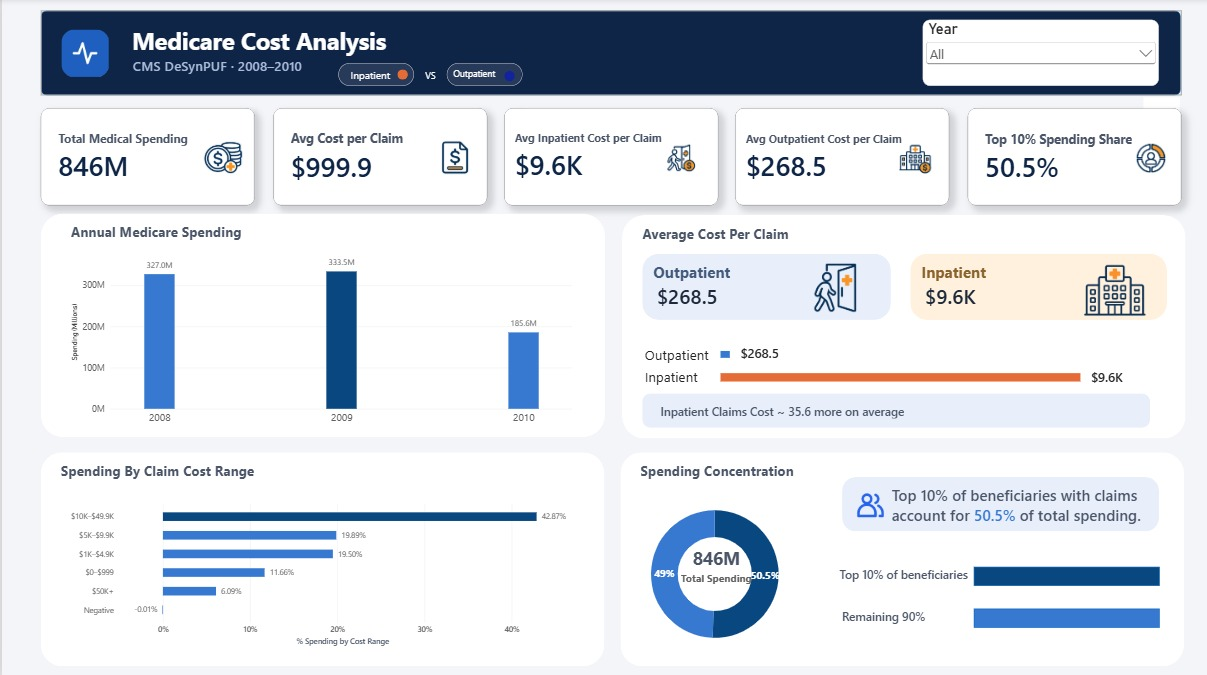

What the dashboard file says about the page in this screenshot:
{"tool":"powerbi","page":{"name":"Medicare Cost Analysis","canvas":[1920,1080],"ordinal":1},"visuals":[{"type":"shape","title":"Inpatient        ","box":[535,102.1,120,36],"z":0,"group":"g1"},{"type":"shape","box":[1441.1,406.1,407.5,105],"z":0,"group":"g4"},{"type":"shape","box":[62.5,720,895,340],"z":0},{"type":"shape","box":[62.5,20,1810,135],"z":1000},{"type":"shape","box":[629.6,112.2,17.1,16.6],"z":1000,"group":"g1"},{"type":"shape","box":[984.3,345.7,895,355],"z":1000,"group":"g3"},{"type":"shape","box":[1016.1,406.1,395,105],"z":1000,"group":"g4"},{"type":"textbox","box":[113,43,926.9,82.3],"z":2000},{"type":"textbox","box":[543.1,109,86.7,35.6],"z":2000,"group":"g1"},{"type":"cardVisual","fields":{"Data":["Cleaned_claims_file.Avg Cost per Claim"]},"box":[1023.6,435.8,190,75.3],"z":2000,"group":"g4"},{"type":"image","box":[94,50,77.3,77.3],"z":3000},{"type":"shape","title":"Inpatient        ","box":[708.1,102.3,120,36],"z":3000,"group":"g1"},{"type":"cardVisual","fields":{"Data":["Cleaned_claims_file.Avg Cost per Claim"]},"box":[1448.6,435.8,190,75.3],"z":3000,"group":"g4"},{"type":"shape","box":[797.3,114,17.1,16.6],"z":4000,"group":"g1"},{"type":"cardVisual","title":"tgg","fields":{"Data":["Cleaned_claims_file.Total Medicare Reimbursement"]},"box":[62.5,175,340,155],"z":4000},{"type":"textbox","box":[708.1,109,86.7,35.6],"z":5000,"group":"g1"},{"type":"cardVisual","title":"tgg","fields":{"Data":["Cleaned_claims_file.Avg Cost per Claim"]},"box":[1165,175,340,155],"z":5000},{"type":"textbox","box":[665.6,112.7,31.2,26.2],"z":6000,"group":"g1"},{"type":"cardVisual","title":"tgg","fields":{"Data":["Cleaned_claims_file.Avg Cost per Claim"]},"box":[430,175,340,155],"z":6000},{"type":"cardVisual","title":"tgg","fields":{"Data":["Cleaned_claims_file.Avg Cost per Claim"]},"box":[797.5,175,340,155],"z":7000},{"type":"cardVisual","fields":{"Data":["Cleaned_claims_file.Avg Cost per Claim"]},"box":[1713.5,556.5,96.5,90.9],"z":7000,"group":"g3"},{"type":"barChart","title":"tgg","fields":{"Category":["Cleaned_claims_file.Claim Cost Range"],"Y":["Cleaned_claims_file.% Spending by Cost Range"]},"box":[85,782.5,837.5,262.5],"z":8000},{"type":"group","id":"g1","title":"Group 1","box":[535,102.1,294.3,42.9],"z":9000},{"type":"slicer","fields":{"Values":["Cleaned_claims_file.Claim Year"]},"box":[1462.5,35,375,105],"z":10000},{"type":"shape","box":[62.5,342.5,896,355.3],"z":10000,"group":"g2"},{"type":"clusteredBarChart","fields":{"Category":["Cleaned_claims_file.Claim_Type"],"Y":["Cleaned_claims_file.Avg Cost per Claim"]},"box":[1123.5,513.2,582.5,103.8],"z":10000,"group":"g3"},{"type":"shape","box":[982.5,720,895,340],"z":11000},{"type":"group","id":"g2","title":"Group 3","box":[62.5,342.5,895,357.5],"z":12000},{"type":"cardVisual","title":"tgg","fields":{"Data":["Cleaned_claims_file.Top 10% Spending Share"]},"box":[1532.5,175,340,155],"z":13000},{"type":"group","id":"g3","title":"Group 4","box":[984.3,345.7,894.3,354.3],"z":14000},{"type":"columnChart","title":"Annual Medicare Spending","fields":{"Category":["Cleaned_claims_file.Claim Year"],"Y":["Cleaned_claims_file.Total Medicare Reimbursement"]},"box":[95.5,343,827.5,357.5],"z":15000,"group":"g2"},{"type":"barChart","fields":{"Category":["Cleaned_claims_file.Claim_Type"],"Y":["Cleaned_claims_file.Avg Cost per Claim"]},"box":[1123.5,543.2,630,118],"z":15000,"group":"g3"},{"type":"donutChart","fields":{"Y":["Cleaned_claims_file.Top 10% Spending Share","Cleaned_claims_file.Remaining 90% Spending"]},"box":[925,760,412.5,310],"z":15000},{"type":"group","id":"g4","title":"Group 2","box":[1016.1,406.1,832.5,106.6],"z":16000,"group":"g3"},{"type":"shape","box":[1335,760,503.3,86.7],"z":16000},{"type":"textbox","box":[1411.7,771.7,410,75],"z":17000},{"type":"textbox","box":[985.1,586.5,145,30],"z":18000,"group":"g3"},{"type":"image","box":[1343.3,771.7,68.3,63.3],"z":18000},{"type":"textbox","box":[1014.3,553.2,115,33.8],"z":19000,"group":"g3"},{"type":"cardVisual","fields":{"Data":["Cleaned_claims_file.Total Medicare Reimbursement"]},"box":[1060,835,147.5,135],"z":19000},{"type":"cardVisual","fields":{"Data":["Cleaned_claims_file.Avg Cost per Claim"]},"box":[1155.5,520.7,96.5,90.9],"z":20000,"group":"g3"},{"type":"shape","box":[1542.5,902.5,295,30],"z":20000},{"type":"image","box":[1707.1,407.7,118,105],"z":20004,"group":"g4"},{"type":"shape","box":[1542.5,970,295,30],"z":21000},{"type":"shape","box":[1015.1,629.9,806.7,55],"z":22000,"group":"g3"},{"type":"textbox","box":[1322.5,902.5,220,30],"z":22000},{"type":"image","box":[1263.2,407.5,117.5,105],"z":23000,"group":"g3"},{"type":"textbox","box":[1335,970,207.5,30],"z":23000},{"type":"image","box":[1790,223.3,70,60],"z":24000},{"type":"image","box":[1414.3,222.9,70,60],"z":24001},{"type":"image","box":[1040,222.9,70,60],"z":24002}]}

Visuals, with their boxes in screenshot pixels (x1, y1, x2, y2), scaled from the page's 1920x1080 canvas onto the 1207x675 screenshot:
"Inpatient        " shape: <region>336, 64, 412, 86</region>
shape: <region>906, 254, 1162, 319</region>
shape: <region>39, 450, 602, 662</region>
shape: <region>39, 12, 1177, 97</region>
shape: <region>396, 70, 407, 80</region>
shape: <region>619, 216, 1181, 438</region>
shape: <region>639, 254, 887, 319</region>
textbox: <region>71, 27, 654, 78</region>
textbox: <region>341, 68, 396, 90</region>
cardVisual - Cleaned_claims_file.Avg Cost per Claim: <region>643, 272, 763, 319</region>
image: <region>59, 31, 108, 80</region>
"Inpatient        " shape: <region>445, 64, 521, 86</region>
cardVisual - Cleaned_claims_file.Avg Cost per Claim: <region>911, 272, 1030, 319</region>
shape: <region>501, 71, 512, 82</region>
"tgg" cardVisual: <region>39, 109, 253, 206</region>
textbox: <region>445, 68, 500, 90</region>
"tgg" cardVisual: <region>732, 109, 946, 206</region>
textbox: <region>418, 70, 438, 87</region>
"tgg" cardVisual: <region>270, 109, 484, 206</region>
"tgg" cardVisual: <region>501, 109, 715, 206</region>
cardVisual - Cleaned_claims_file.Avg Cost per Claim: <region>1077, 348, 1138, 405</region>
"tgg" barChart: <region>53, 489, 580, 653</region>
"Group 1" group: <region>336, 64, 521, 91</region>
slicer - Cleaned_claims_file.Claim Year: <region>919, 22, 1155, 88</region>
shape: <region>39, 214, 603, 436</region>
clusteredBarChart - Cleaned_claims_file.Claim_Type x Cleaned_claims_file.Avg Cost per Claim: <region>706, 321, 1072, 386</region>
shape: <region>618, 450, 1180, 662</region>
"Group 3" group: <region>39, 214, 602, 438</region>
"tgg" cardVisual: <region>963, 109, 1177, 206</region>
"Group 4" group: <region>619, 216, 1181, 438</region>
"Annual Medicare Spending" columnChart: <region>60, 214, 580, 438</region>
barChart - Cleaned_claims_file.Claim_Type x Cleaned_claims_file.Avg Cost per Claim: <region>706, 340, 1102, 413</region>
donutChart - Cleaned_claims_file.Top 10% Spending Share x Cleaned_claims_file.Remaining 90% Spending: <region>581, 475, 841, 669</region>
"Group 2" group: <region>639, 254, 1162, 320</region>
shape: <region>839, 475, 1156, 529</region>
textbox: <region>887, 482, 1145, 529</region>
textbox: <region>619, 367, 710, 385</region>
image: <region>844, 482, 887, 522</region>
textbox: <region>638, 346, 710, 367</region>
cardVisual - Cleaned_claims_file.Total Medicare Reimbursement: <region>666, 522, 759, 606</region>
cardVisual - Cleaned_claims_file.Avg Cost per Claim: <region>726, 325, 787, 382</region>
shape: <region>970, 564, 1155, 583</region>
image: <region>1073, 255, 1147, 320</region>
shape: <region>970, 606, 1155, 625</region>
shape: <region>638, 394, 1145, 428</region>
textbox: <region>831, 564, 970, 583</region>
image: <region>794, 255, 868, 320</region>
textbox: <region>839, 606, 970, 625</region>
image: <region>1125, 140, 1169, 177</region>
image: <region>889, 139, 933, 177</region>
image: <region>654, 139, 698, 177</region>
